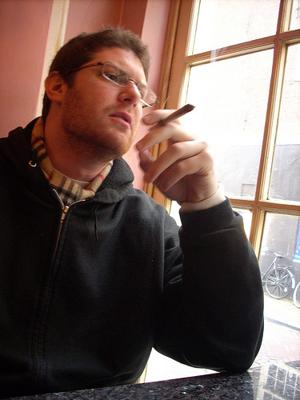person: (2, 28, 267, 400)
